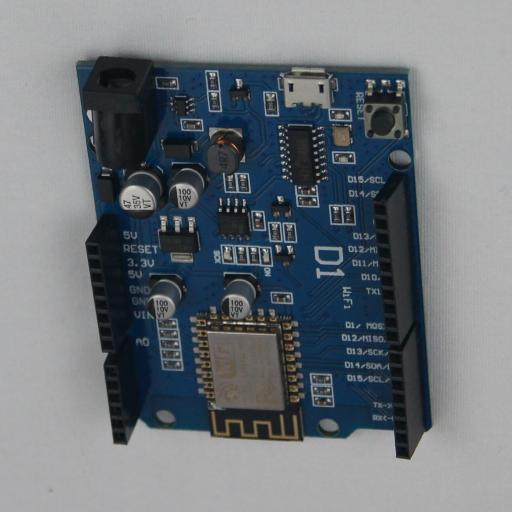Arduino Uno WiFi Shield: (76, 53, 432, 459)
